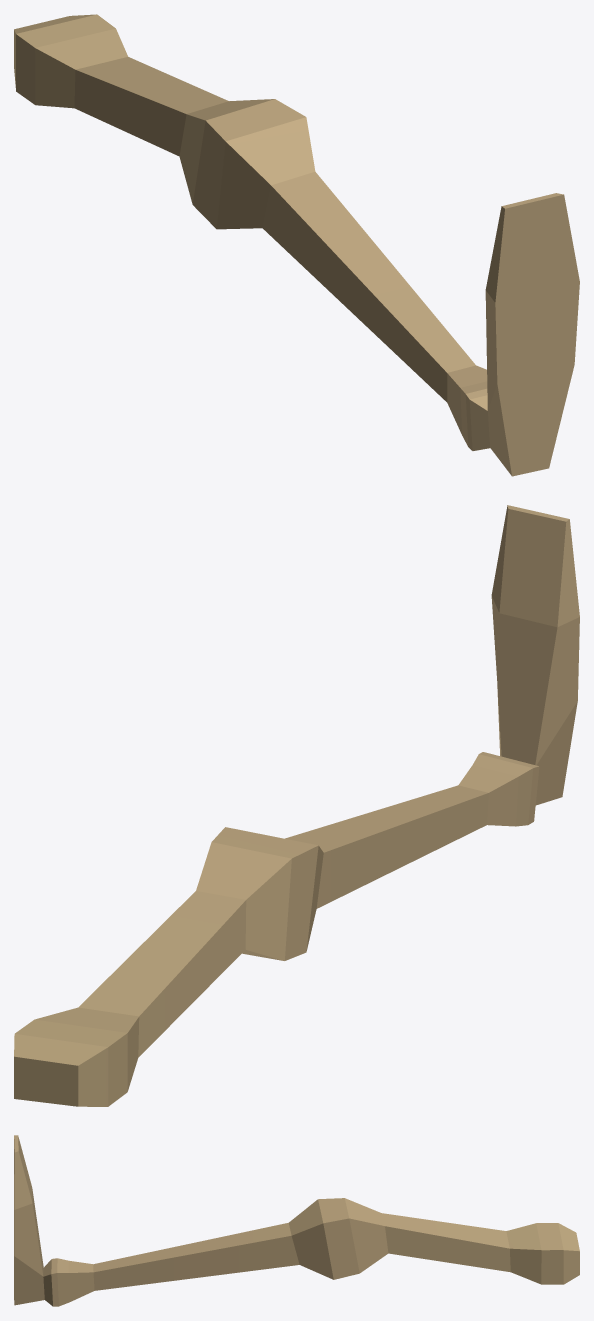
Rendered from Skeleton_leg_l.fbx.
The picture shows the model from 3 angles, top to bottom: view 1: azimuth 30°, elevation 25°; view 2: azimuth 150°, elevation 25°; view 3: azimuth 270°, elevation 25°; orthographic projection. The views are drawn at different scales.
Parts seen in each view (by area): view 1: Skeleton_leg_l; view 2: Skeleton_leg_l; view 3: Skeleton_leg_l.
Part boxes in pixels (x1,y1,x2,y2): Skeleton_leg_l: (14,14,579,476); Skeleton_leg_l: (14,505,579,1106); Skeleton_leg_l: (14,1135,579,1306).
Bounding box in the file's own units: 10.38 × 27.51 × 89.48.
